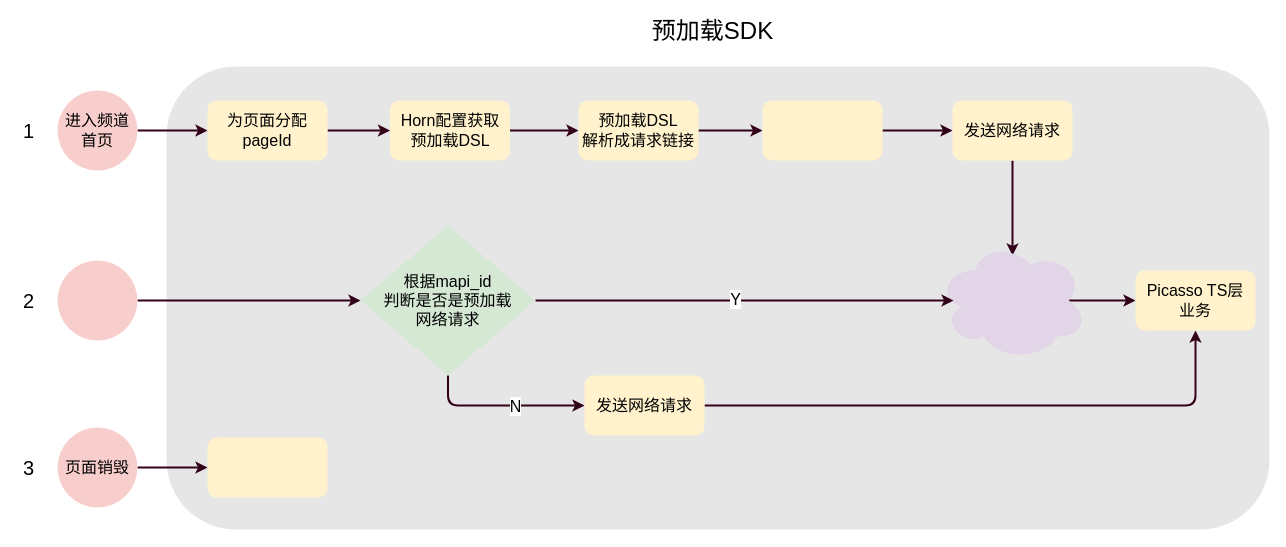
This 1286x547 diagram has some shape labels left out. The centre of each missing label's shape, as x and y in pixels:
"TS侧调用网络桥" goes at pixel 97 300.
"为每个请求链接生成唯一mapi_id" goes at pixel 822 130.
"根据页面pageId释放资源" goes at pixel 267 467.
"请求状态 管理器" goes at pixel 1012 300.
